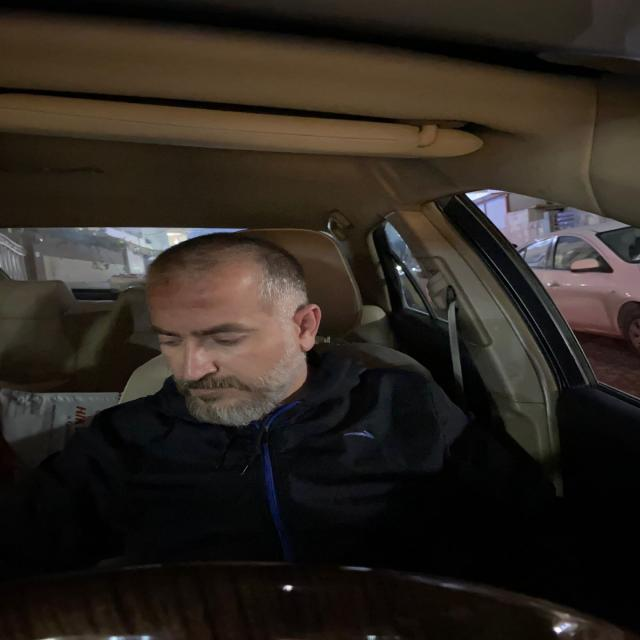person: (128, 242, 334, 428)
